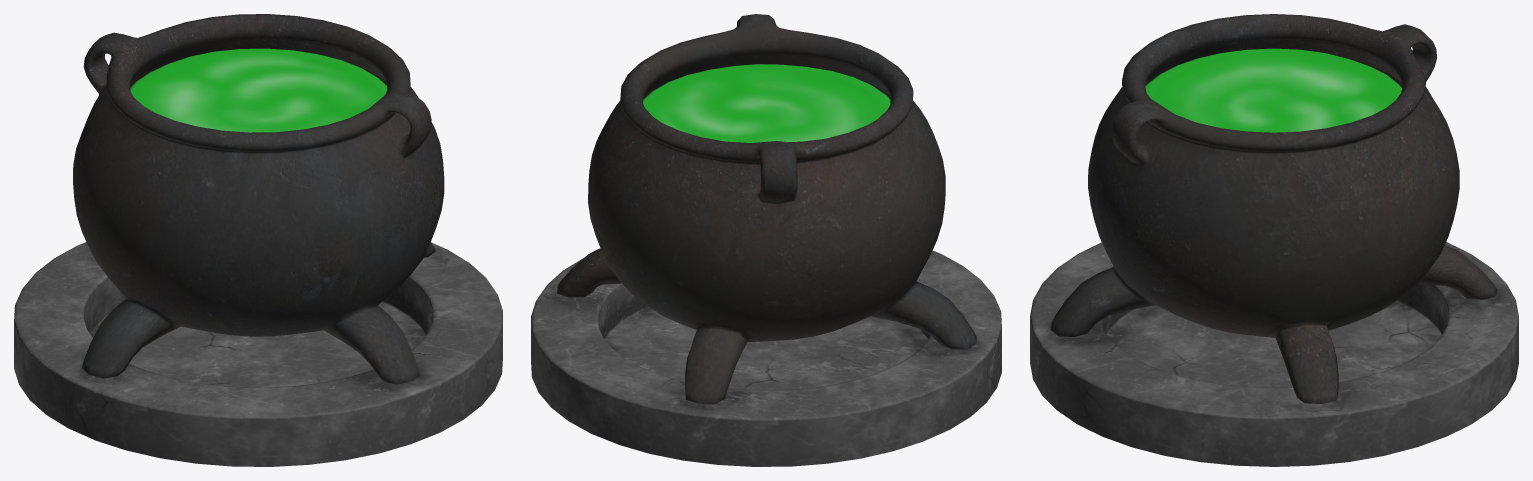
Rendered from witch_cauldron.glb.
3 views of the same model, side by side, from view 1: azimuth 30°, elevation 25°; view 2: azimuth 150°, elevation 25°; view 3: azimuth 270°, elevation 25° (orthographic). The views are drawn at different scales.
Visible parts, largest first — view 1: g (×3); view 2: g (×3); view 3: g (×3).
Part boxes in pixels (box(x1,y1,x2,y2)): g (×3): box(14, 14, 502, 466); g (×3): box(531, 14, 1001, 466); g (×3): box(1030, 14, 1518, 466).
Size of the model in its own units: 2 by 1.35 by 2.
3 materials, 3 textured.
